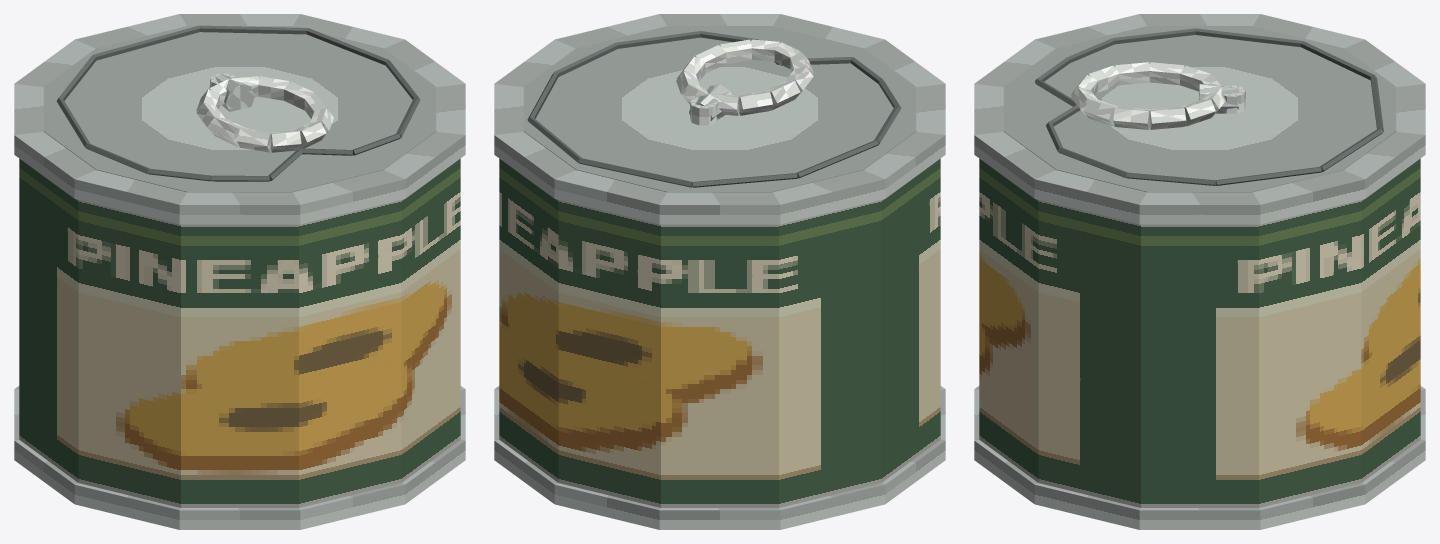
Rendered from can_pineapple.glb.
3 views of the same model, side by side, from view 1: azimuth 30°, elevation 25°; view 2: azimuth 150°, elevation 25°; view 3: azimuth 270°, elevation 25° (orthographic).
Parts seen in each view (by area): view 1: block_illustrated wraparound can label, block_recessed easy-open panel, block_rolled steel top, block_rolled steel base, block_pull tab hinge, block_scored lid opening 3, block_scored lid opening 4, block_raised metal pull ring 4, block_raised metal pull ring 3, block_scored lid opening 5, block_raised metal pull ring 5, block_raised metal pull ring 10 (+1 smaller); view 2: block_illustrated wraparound can label, block_recessed easy-open panel, block_rolled steel top, block_rolled steel base, block_scored lid opening 3, block_raised metal pull ring 7, block_scored lid opening 2, block_raised metal pull ring 6, block_scored lid opening 7, block_scored lid opening 1, block_raised metal pull ring 1, block_pull tab rivet (+2 smaller); view 3: block_illustrated wraparound can label, block_recessed easy-open panel, block_rolled steel top, block_rolled steel base, block_scored lid opening 1, block_raised metal pull ring 11, block_raised metal pull ring 0, block_scored lid opening 5, block_raised metal pull ring 6, block_raised metal pull ring 5, block_raised metal pull ring 10, block_raised metal pull ring 1 (+3 smaller).
Part boxes in pixels (<box>): block_illustrated wraparound can label: <box>19,158,460,507</box>; block_recessed easy-open panel: <box>43,26,436,192</box>; block_rolled steel top: <box>14,14,465,224</box>; block_rolled steel base: <box>14,386,465,529</box>; block_pull tab hinge: <box>209,74,254,111</box>; block_scored lid opening 3: <box>93,25,199,60</box>; block_scored lid opening 4: <box>199,25,307,34</box>; block_raised metal pull ring 4: <box>237,128,271,152</box>; block_raised metal pull ring 3: <box>271,130,301,152</box>; block_scored lid opening 5: <box>306,28,388,65</box>; block_raised metal pull ring 5: <box>210,117,245,147</box>; block_raised metal pull ring 10: <box>258,76,290,100</box>; block_illustrated wraparound can label: <box>499,158,940,507</box>; block_recessed easy-open panel: <box>523,26,916,192</box>; block_rolled steel top: <box>494,14,945,224</box>; block_rolled steel base: <box>494,386,945,529</box>; block_scored lid opening 3: <box>579,158,692,187</box>; block_raised metal pull ring 7: <box>739,91,772,115</box>; block_scored lid opening 2: <box>692,173,797,187</box>; block_raised metal pull ring 6: <box>764,81,800,110</box>; block_scored lid opening 7: <box>616,31,700,48</box>; block_scored lid opening 1: <box>796,140,878,178</box>; block_raised metal pull ring 1: <box>719,39,751,63</box>; block_pull tab rivet: <box>690,97,717,125</box>; block_illustrated wraparound can label: <box>979,158,1420,507</box>; block_recessed easy-open panel: <box>1003,26,1396,192</box>; block_rolled steel top: <box>974,14,1425,224</box>; block_rolled steel base: <box>974,386,1425,529</box>; block_scored lid opening 1: <box>1195,28,1302,47</box>; block_raised metal pull ring 11: <box>1149,107,1186,129</box>; block_raised metal pull ring 0: <box>1113,107,1149,129</box>; block_scored lid opening 5: <box>1216,167,1321,185</box>; block_raised metal pull ring 6: <box>1149,62,1184,85</box>; block_raised metal pull ring 5: <box>1114,62,1149,85</box>; block_raised metal pull ring 10: <box>1180,99,1215,126</box>; block_raised metal pull ring 1: <box>1083,99,1118,126</box>.
Size of the model in its own units: 0.084 by 0.0719 by 0.084.
1 material, 1 textured.
